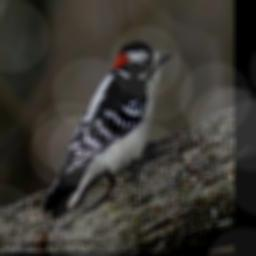Woodpecker: (40, 42, 172, 217)
